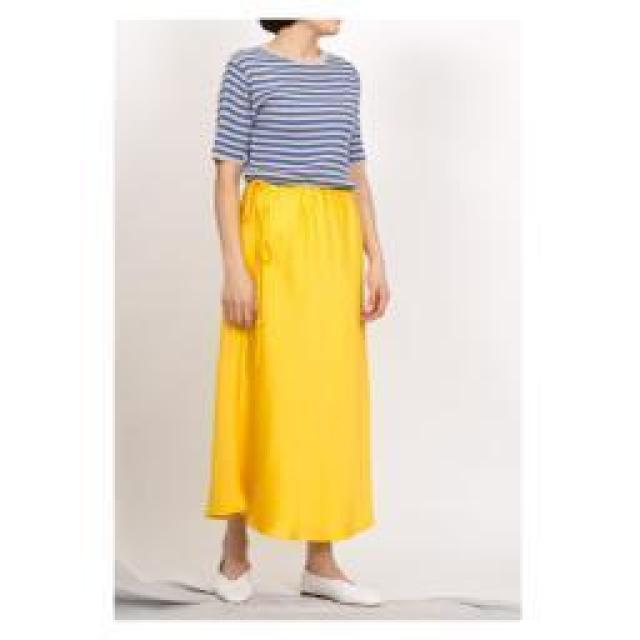Tshirt: (210, 44, 370, 188)
skirt: (205, 178, 375, 544)
